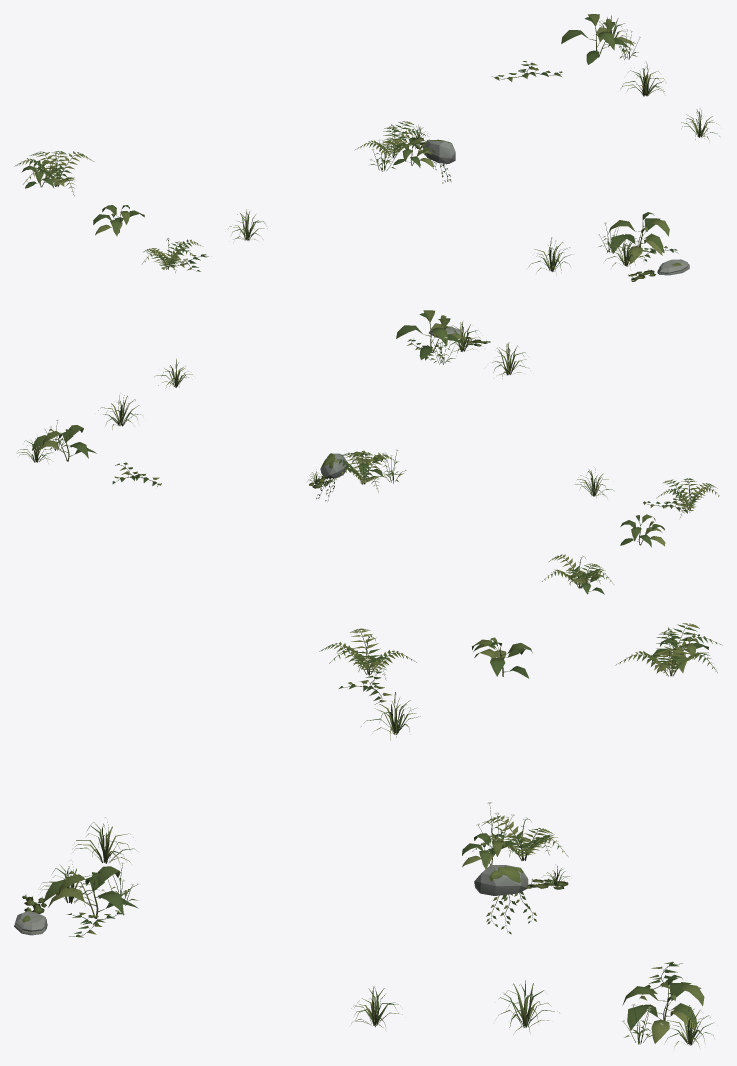
The model's file is dressing_stage2.glb.
3 views of the same model, one above another, from view 1: azimuth 30°, elevation 25°; view 2: azimuth 150°, elevation 25°; view 3: azimuth 270°, elevation 25° (orthographic). The views are drawn at different scales.
Parts seen in each view (by area): view 1: stage1_dressing_foliage, stage1_dressing_rocks; view 2: stage1_dressing_foliage, stage1_dressing_rocks; view 3: stage1_dressing_foliage, stage1_dressing_rocks.
Part boxes in pixels (box(x1,y1,x2,y2)): stage1_dressing_foliage: box(14, 14, 719, 281); stage1_dressing_rocks: box(422, 139, 689, 275); stage1_dressing_foliage: box(17, 310, 719, 594); stage1_dressing_rocks: box(320, 326, 463, 478); stage1_dressing_foliage: box(22, 623, 722, 1047); stage1_dressing_rocks: box(14, 865, 528, 935).
Size of the model in its own units: 6.86 by 0.7644 by 5.09.
